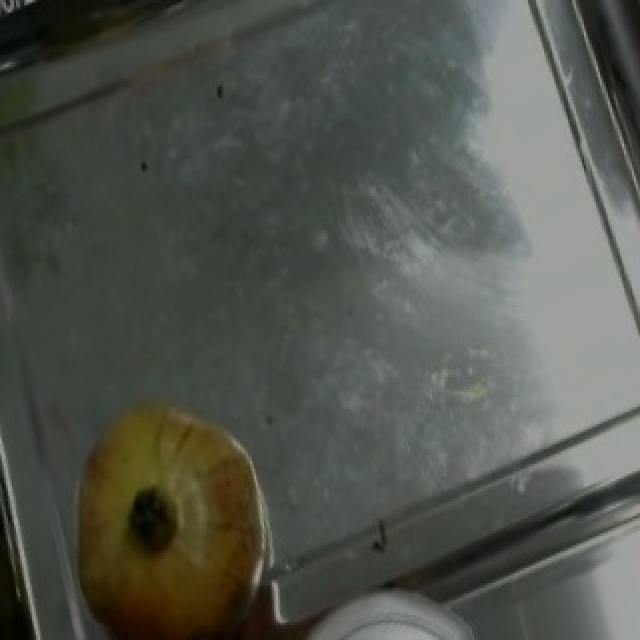fruit: (40, 365, 300, 635)
